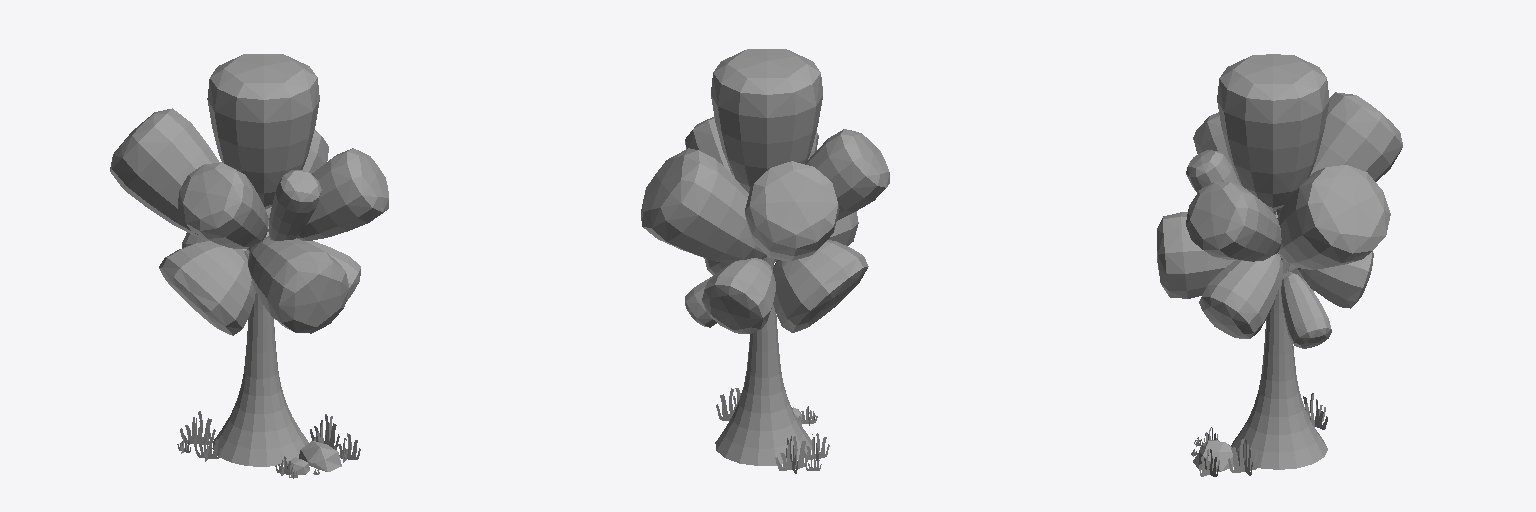
File: tree5.obj
3 views of the same model, side by side, from view 1: azimuth 30°, elevation 25°; view 2: azimuth 150°, elevation 25°; view 3: azimuth 270°, elevation 25° (orthographic).
Visible parts, largest first — view 1: Tree5_Line092; view 2: Tree5_Line092; view 3: Tree5_Line092.
Boxes of the visible parts, x1=… form: Tree5_Line092: x1=110, y1=54, x2=388, y2=478; Tree5_Line092: x1=641, y1=49, x2=889, y2=473; Tree5_Line092: x1=1157, y1=54, x2=1402, y2=476.
Size of the model in its own units: 1.65 by 2.88 by 1.68.